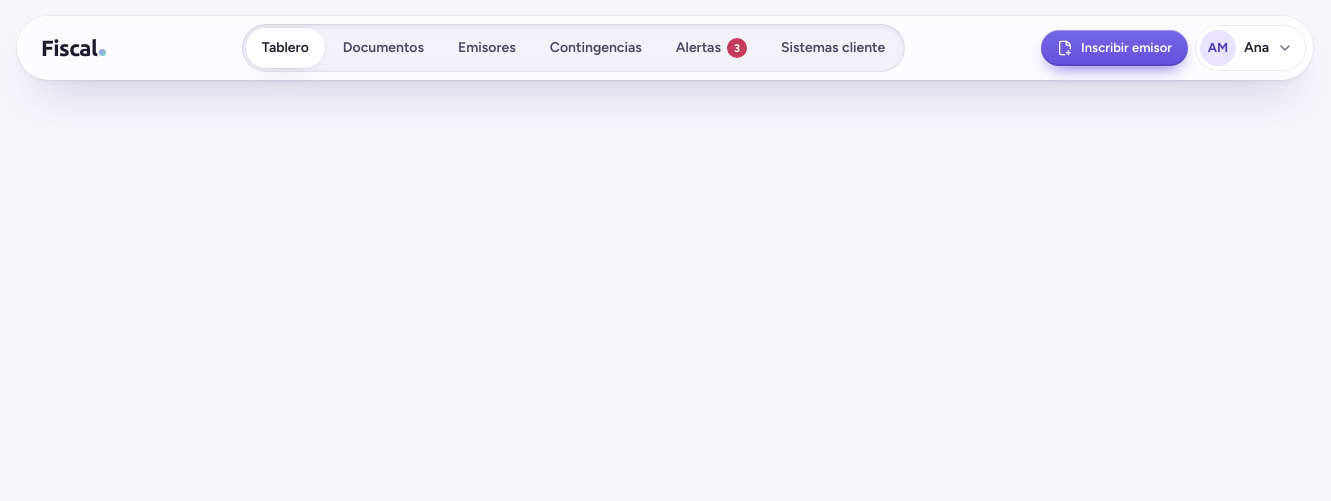
Test: Header › shows who is signed in
Step 1. Click the button with aria-label "Tu cuenta" → (1250, 48), box [1196,26,1305,70]
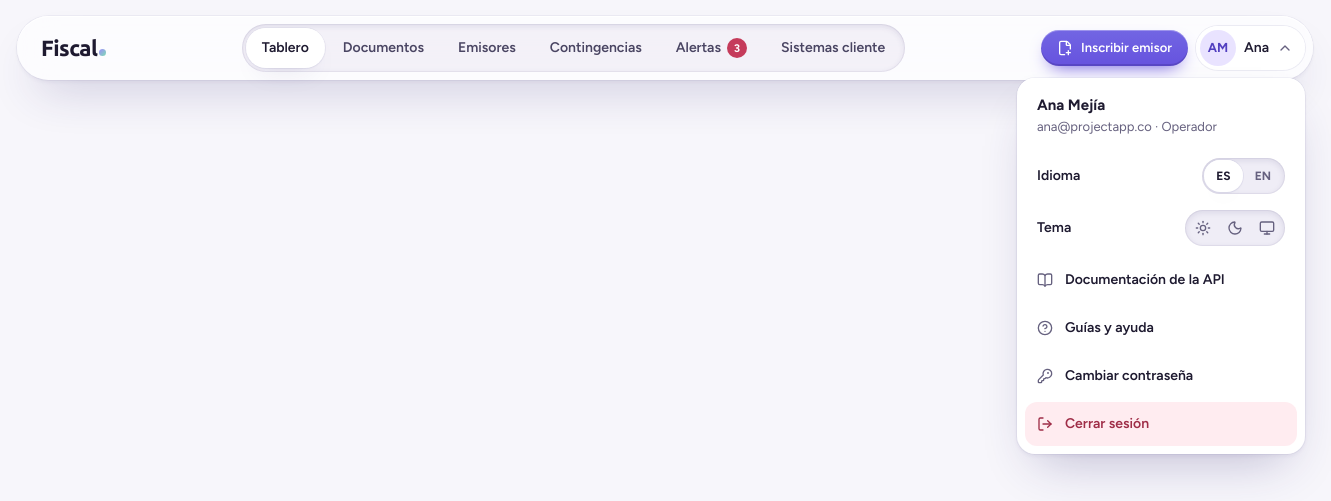
Check: the menu shows "ana@projectapp.co · Operador", box [1017,78,1305,454]
